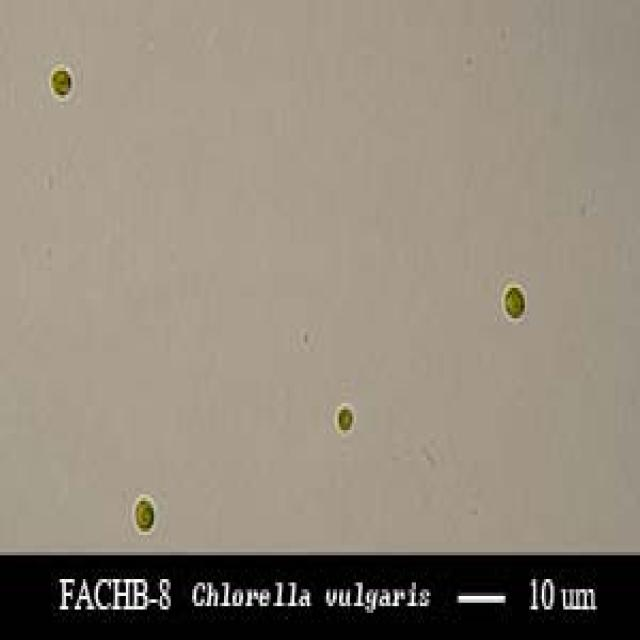Green Algae: (132, 491, 158, 535), (503, 281, 527, 322), (47, 64, 75, 98), (335, 399, 356, 434)
